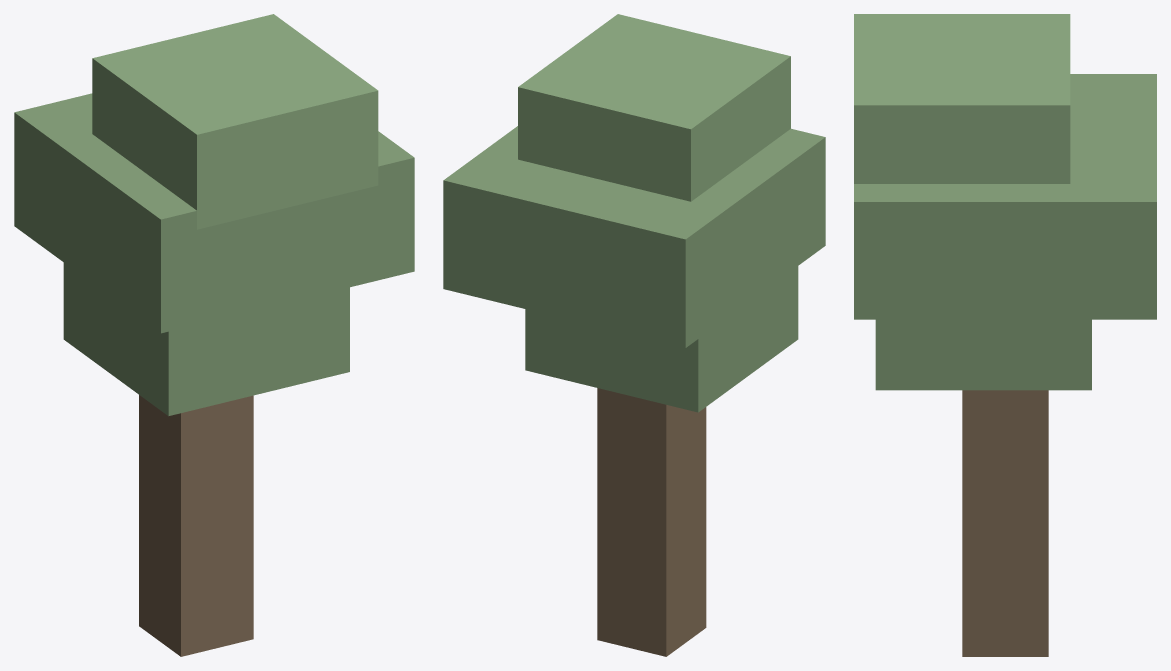
File: arbol_joven_02.glb
The picture shows the model from 3 angles, left to right: view 1: azimuth 30°, elevation 25°; view 2: azimuth 150°, elevation 25°; view 3: azimuth 270°, elevation 25°; orthographic projection. The views are drawn at different scales.
Parts seen in each view (by area): view 1: arbol_joven_02; view 2: arbol_joven_02; view 3: arbol_joven_02.
Part boxes in pixels (x1,y1,x2,y2): arbol_joven_02: [14, 14, 414, 656]; arbol_joven_02: [443, 14, 825, 656]; arbol_joven_02: [854, 14, 1156, 656].
Bounding box in the file's own units: 1.4 × 3 × 1.4.
